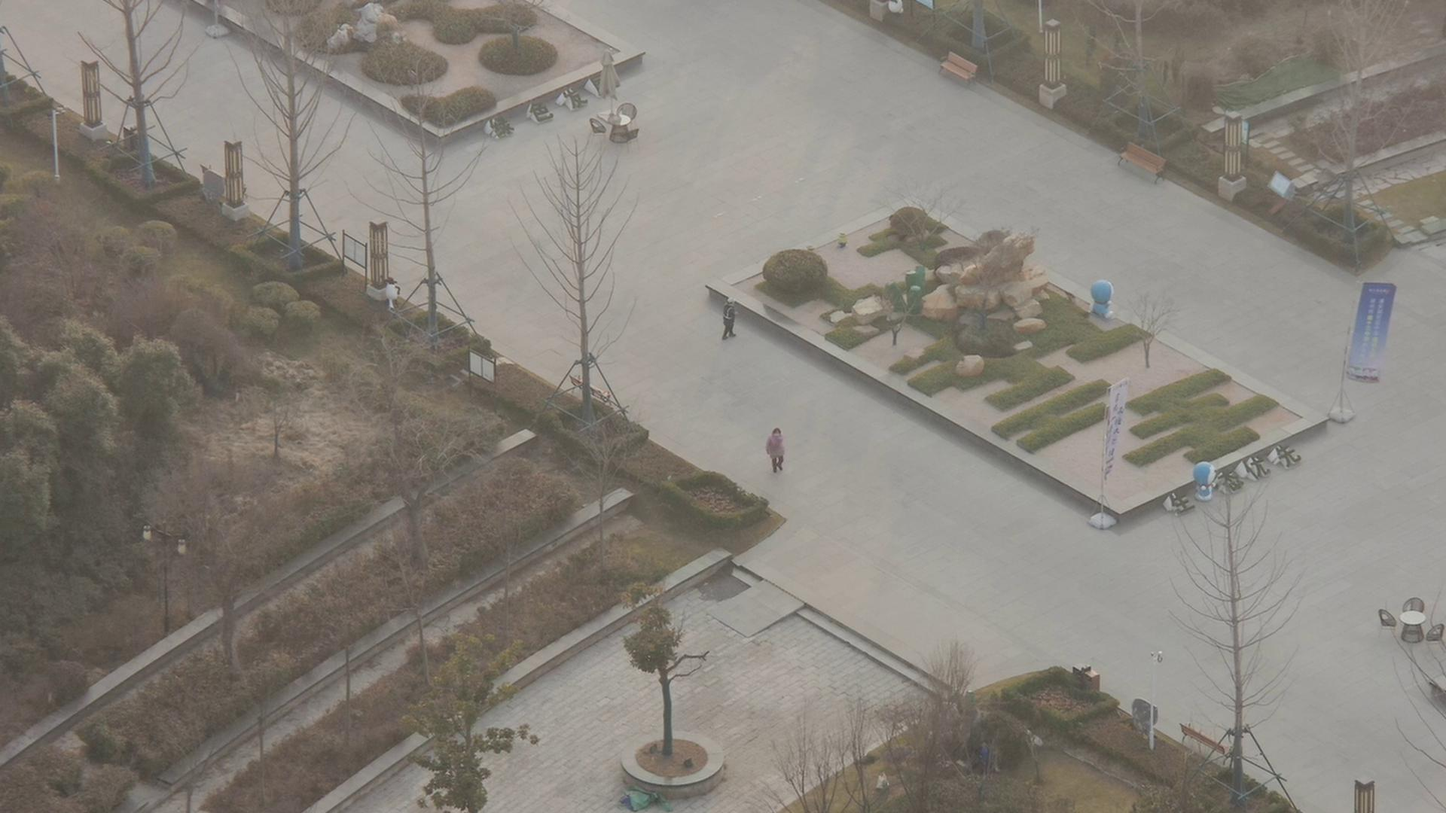human: (761, 414, 793, 479), (713, 282, 746, 345)
